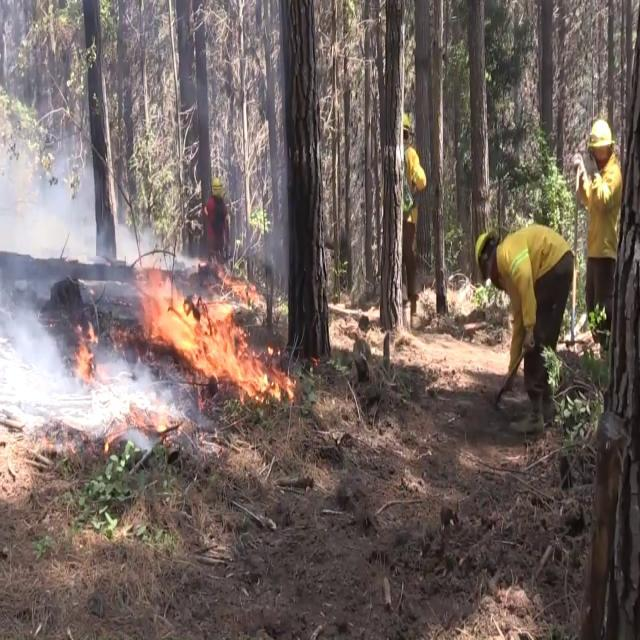Fire: (142, 234, 308, 348), (198, 351, 302, 404), (76, 314, 101, 384), (176, 350, 196, 380)
Smoke: (0, 0, 74, 421), (76, 0, 138, 309), (76, 386, 196, 440), (104, 323, 140, 383)
